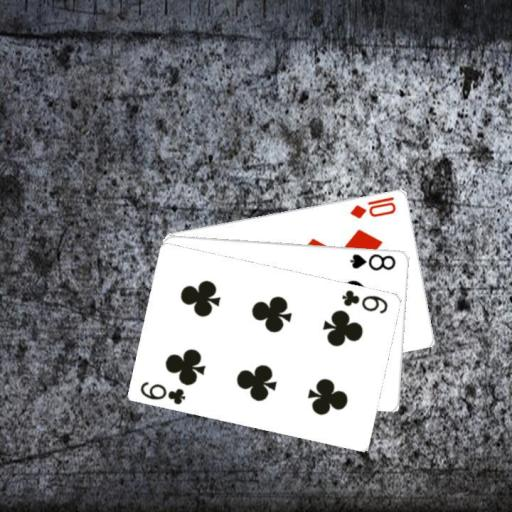10D: (347, 193, 398, 220)
6C: (339, 286, 390, 315), (137, 378, 188, 406)
8S: (347, 250, 398, 272)
